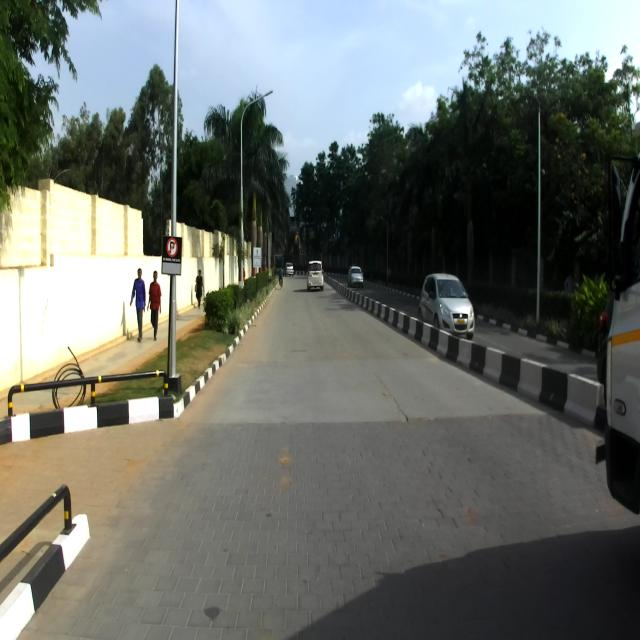electric pole ahead at: (161, 0, 185, 395)
